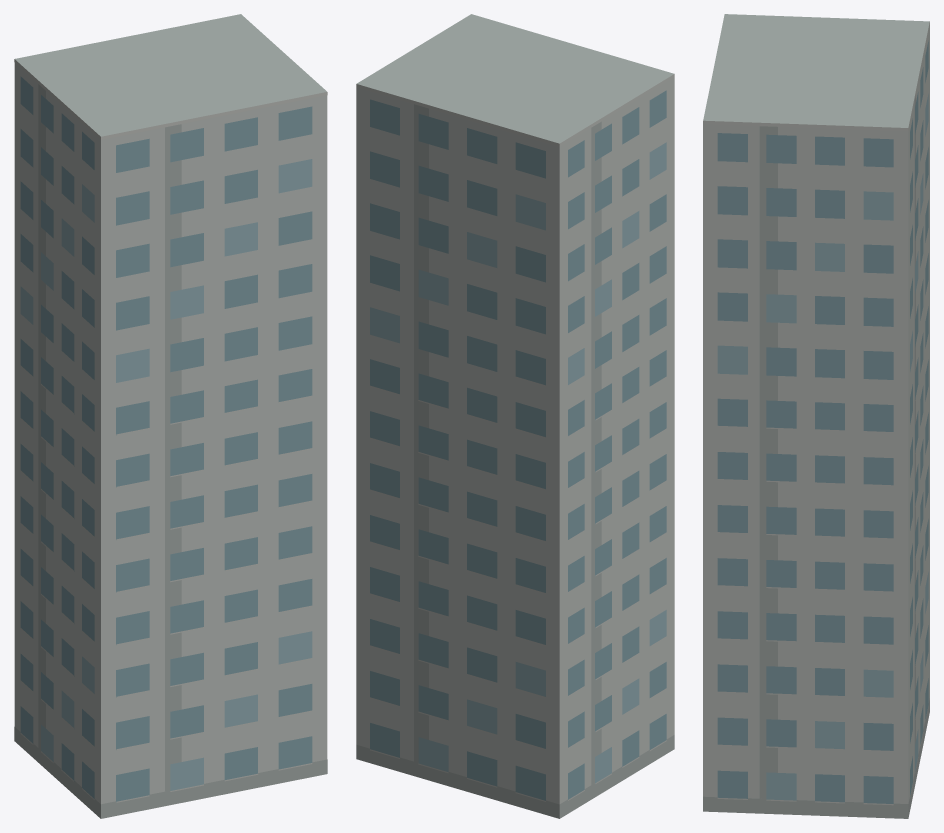
Rendered from residential-4c2c231b-b231-4b3a-99c0-0ea22d6e06ac.glb.
3 views of the same model, side by side, from view 1: azimuth 30°, elevation 25°; view 2: azimuth 150°, elevation 25°; view 3: azimuth 270°, elevation 25° (orthographic). The views are drawn at different scales.
Visible parts, largest first — view 1: residential-4c2c231b-b231-4b3a-99c0-0ea22d6e06ac.tmp; view 2: residential-4c2c231b-b231-4b3a-99c0-0ea22d6e06ac.tmp; view 3: residential-4c2c231b-b231-4b3a-99c0-0ea22d6e06ac.tmp.
Part boxes in pixels (left/top/right/bottom): residential-4c2c231b-b231-4b3a-99c0-0ea22d6e06ac.tmp: left=14, top=14, right=327, bottom=818; residential-4c2c231b-b231-4b3a-99c0-0ea22d6e06ac.tmp: left=356, top=14, right=674, bottom=818; residential-4c2c231b-b231-4b3a-99c0-0ea22d6e06ac.tmp: left=703, top=14, right=929, bottom=818.
Size of the model in its own units: 17.36 by 49 by 14.58.
